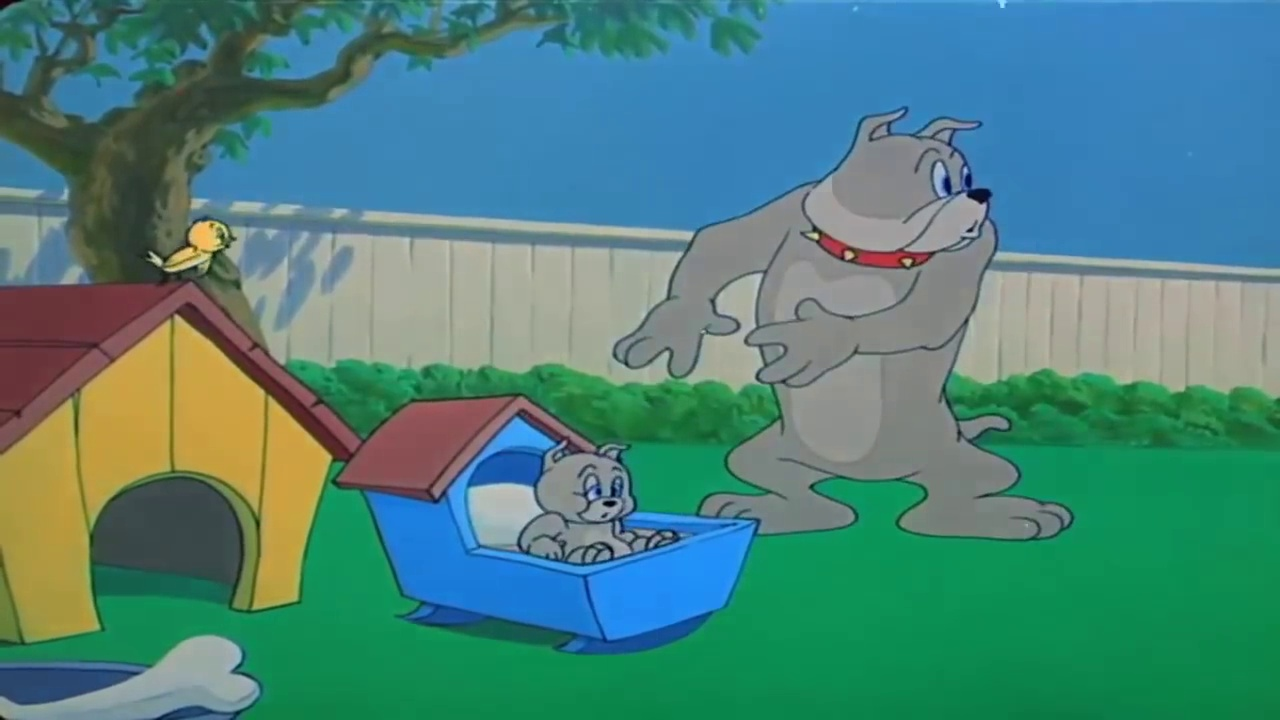spike: (795, 105, 997, 274)
